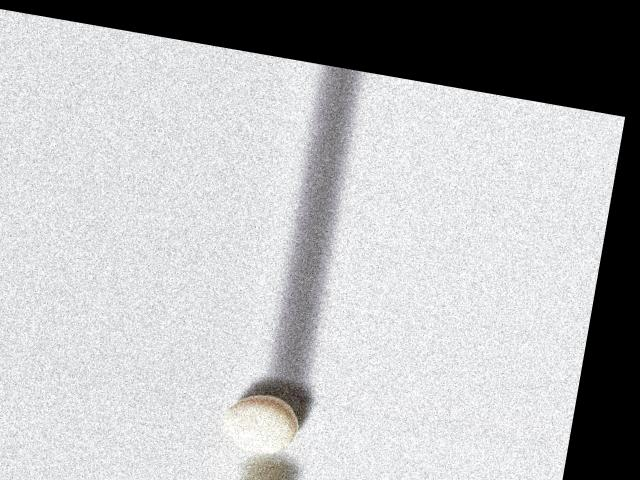egg: (221, 388, 303, 458)
